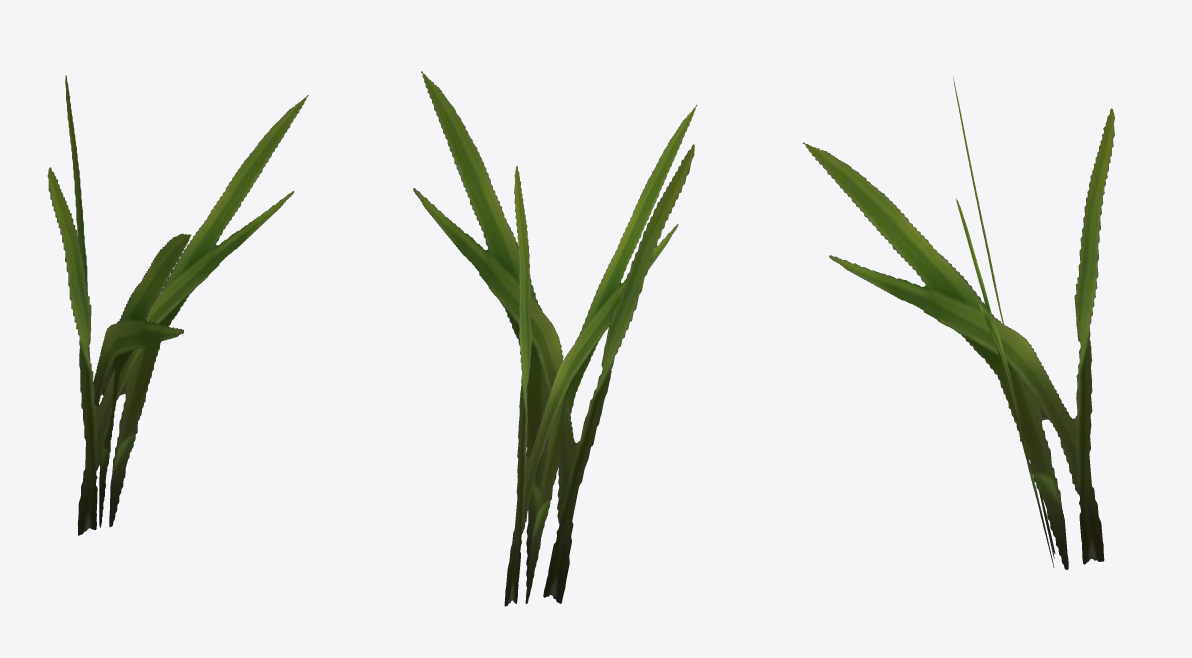
The model's file is grass_01.fbx.
3 views of the same model, side by side, from view 1: azimuth 30°, elevation 25°; view 2: azimuth 150°, elevation 25°; view 3: azimuth 270°, elevation 25° (orthographic). The views are drawn at different scales.
Visible parts, largest first — view 1: Plane028; view 2: Plane028; view 3: Plane028.
Part boxes in pixels (x1,y1,x2,y2): Plane028: (47,75,308,535); Plane028: (413,71,697,606); Plane028: (803,77,1114,569).
Bounding box in the file's own units: 29.01 × 47.15 × 31.88.
